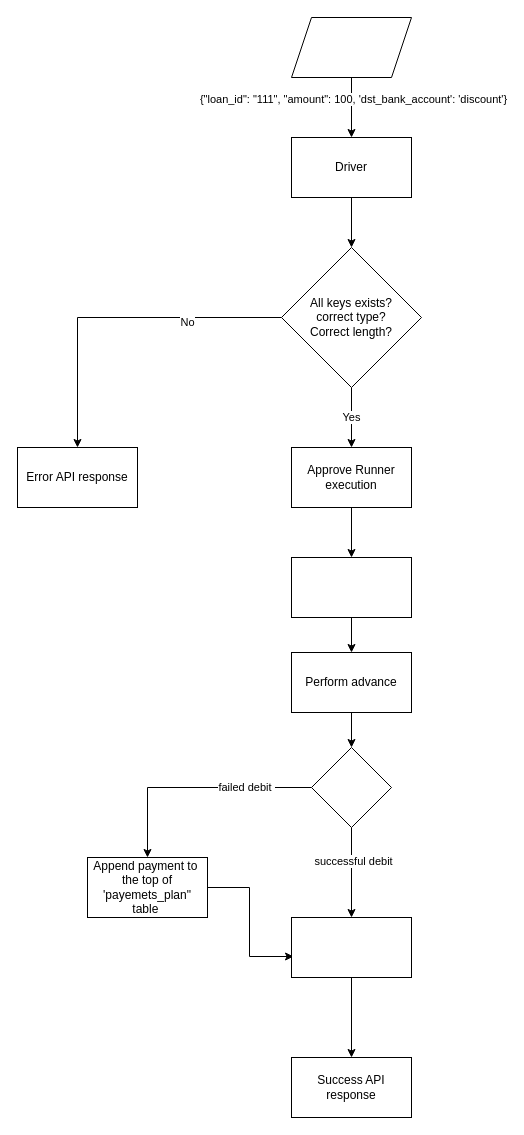
Some shapes in this 524 by 1135 pixel diagram are drawn without their labels. Here are the shapes that lost their labels. From the top down, the box of each, then its label:
(290, 16, 412, 78): Event
(290, 556, 412, 618): Runner
(310, 746, 392, 828): Success?
(290, 916, 412, 978): Add value to "status" table
